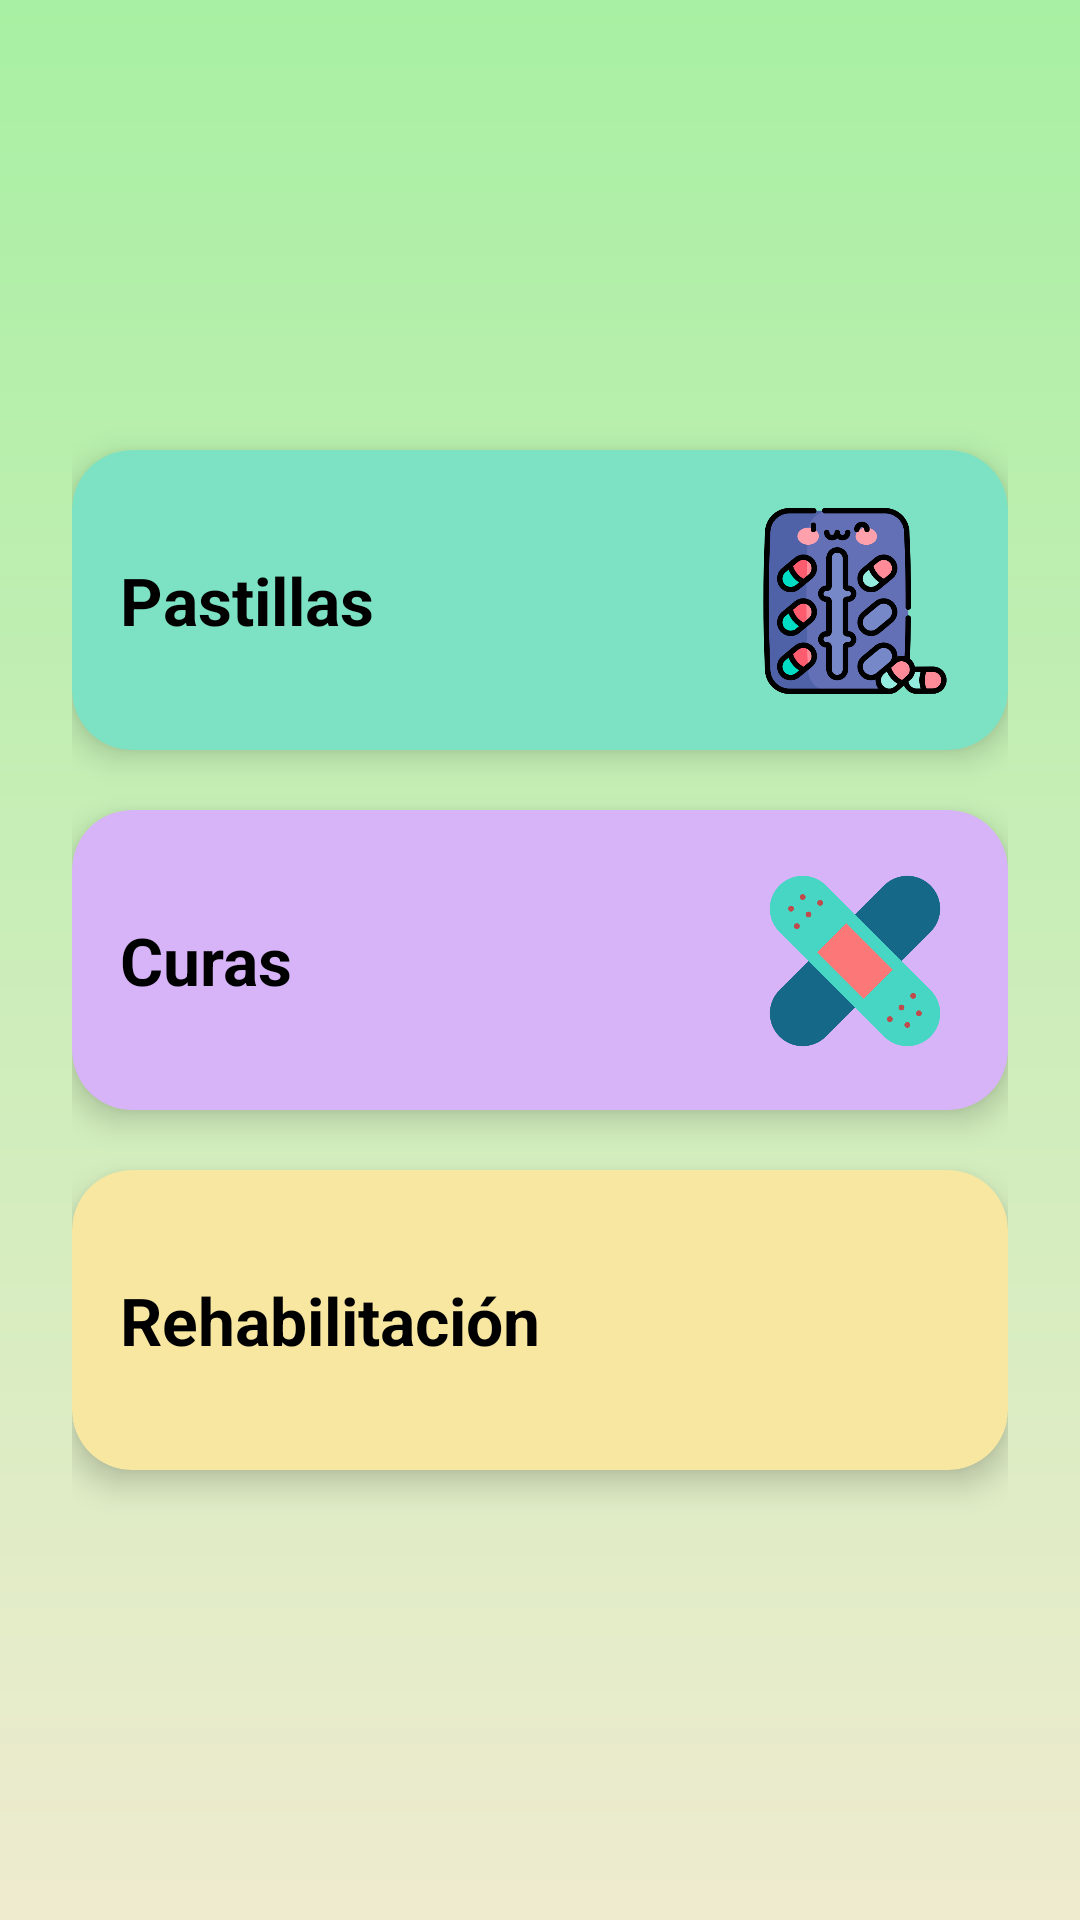

Named icons in this screenshot (1080 × 1920) and their centers, [x,y]:
curasimg: [855,961]
pastillasimg: [855,601]
